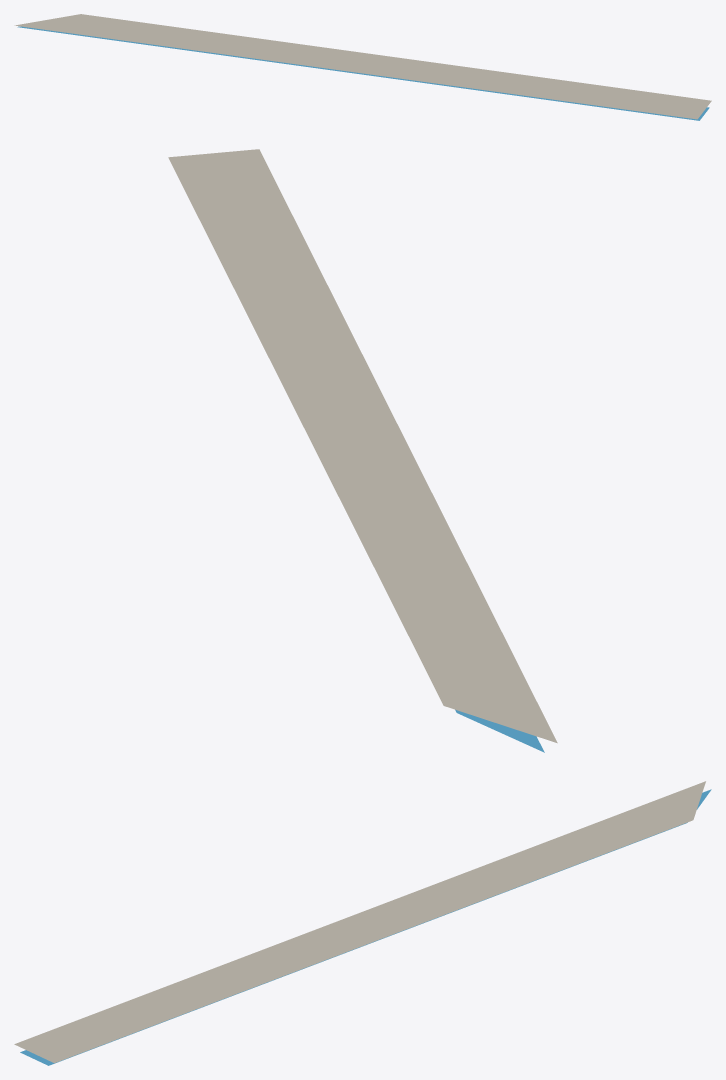
3 views of the same model, one above another, from view 1: azimuth 30°, elevation 25°; view 2: azimuth 150°, elevation 25°; view 3: azimuth 270°, elevation 25° (orthographic). The views are drawn at different scales.
Parts seen in each view (by area): view 1: estructura_terreno, estructura_agua; view 2: estructura_terreno; view 3: estructura_terreno, estructura_agua.
Boxes of the visible parts, left/top/right/bottom form: estructura_terreno: left=14, top=14, right=711, bottom=119; estructura_agua: left=17, top=26, right=709, bottom=120; estructura_terreno: left=168, top=149, right=557, bottom=743; estructura_terreno: left=14, top=781, right=705, bottom=1063; estructura_agua: left=20, top=789, right=711, bottom=1065.
Size of the model in its own units: 46.43 by 0.41 by 48.52.
